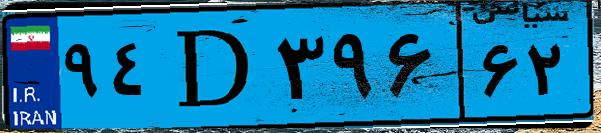2: (525, 38, 570, 115)
3: (270, 28, 330, 110)
4: (110, 28, 158, 98)
6: (385, 28, 445, 110), (475, 38, 525, 113)
9: (330, 28, 385, 110), (57, 26, 110, 100)
D: (158, 12, 270, 120)
